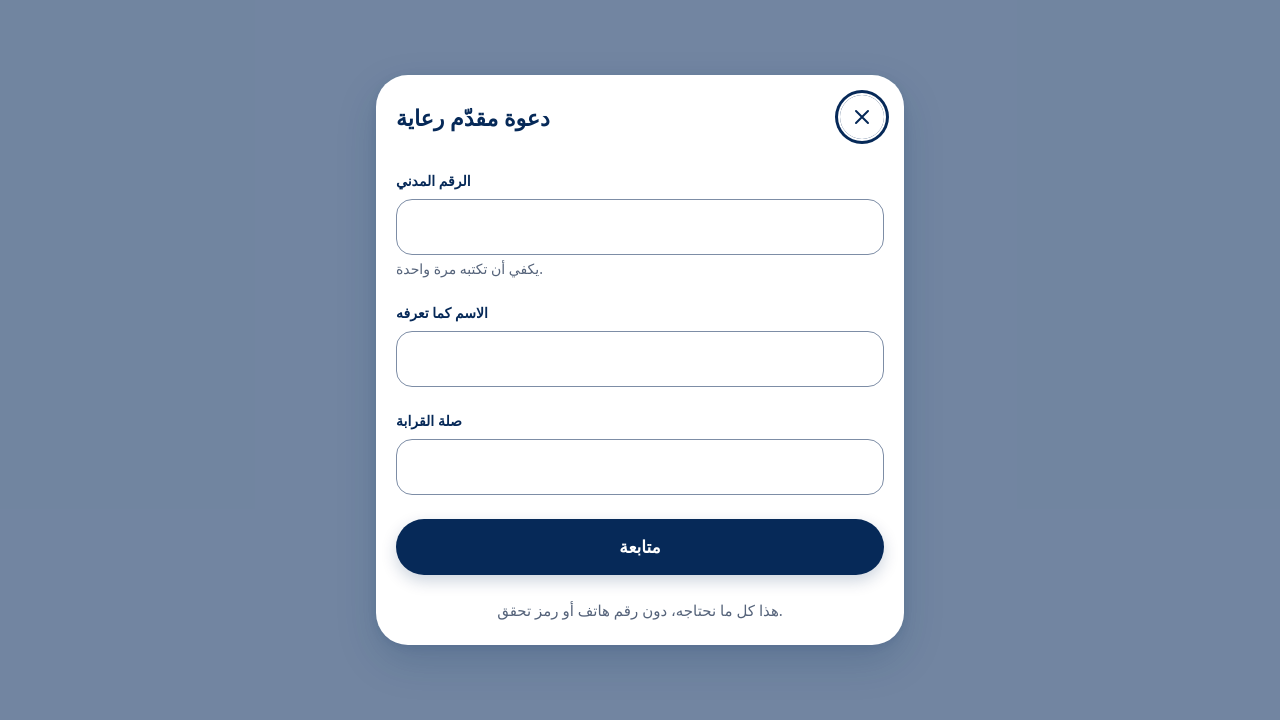
Test: F1 invite form — a real form with a message per empty field › Arabic-Indic digits are read as the Civil ID they are (the has-account path reaches the masked name)
Type "٢٨٥٠٦١٤٠٠٤١٢" into the field labelled "الرقم المدني" at (640, 227), box [396, 199, 884, 255]
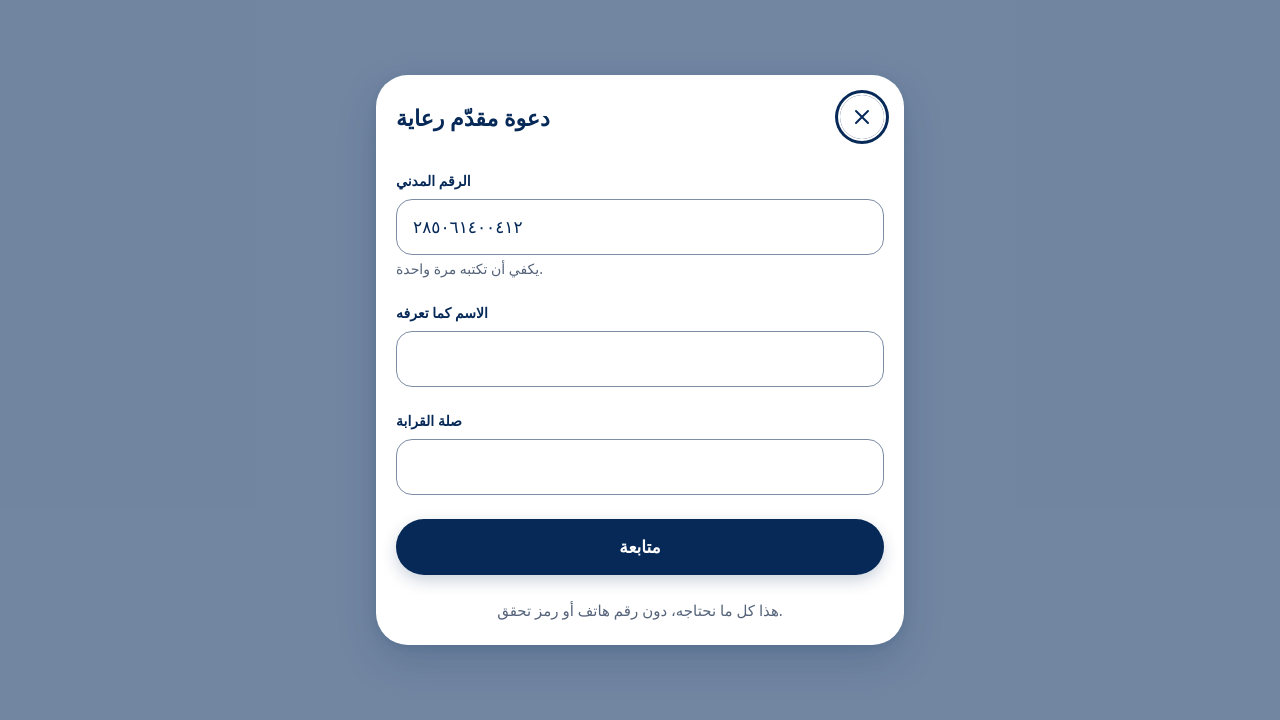
Type "عبدالله" into the field labelled "الاسم كما تعرفه" at (640, 359), box [396, 331, 884, 387]
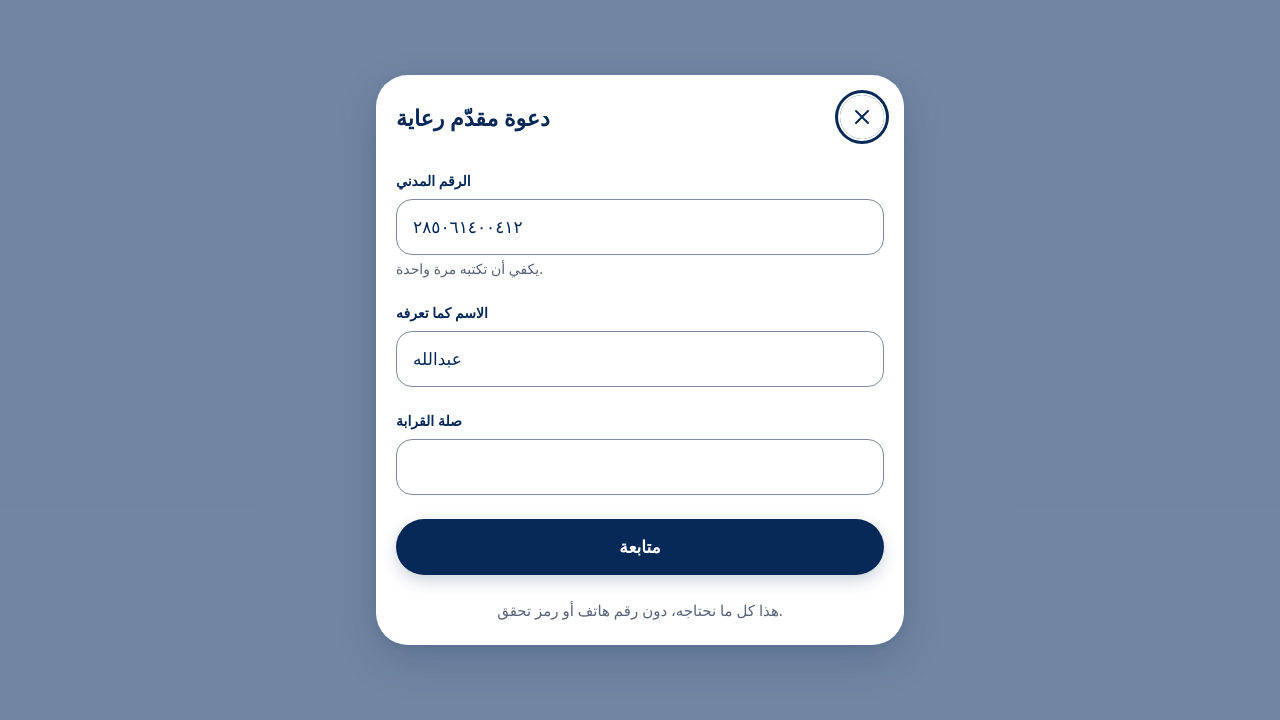
Type "ابني" into the field labelled "صلة القرابة" at (640, 467), box [396, 439, 884, 495]
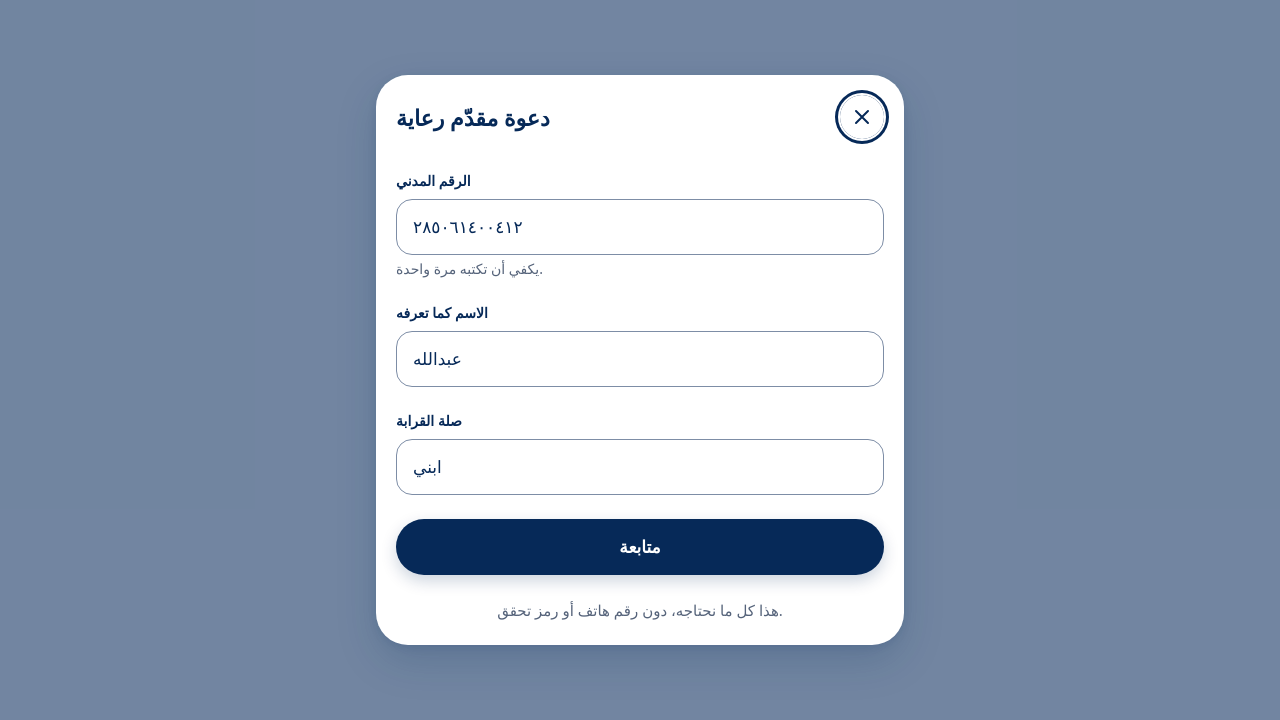
Click the button "متابعة" at (640, 547), box [396, 519, 884, 575]
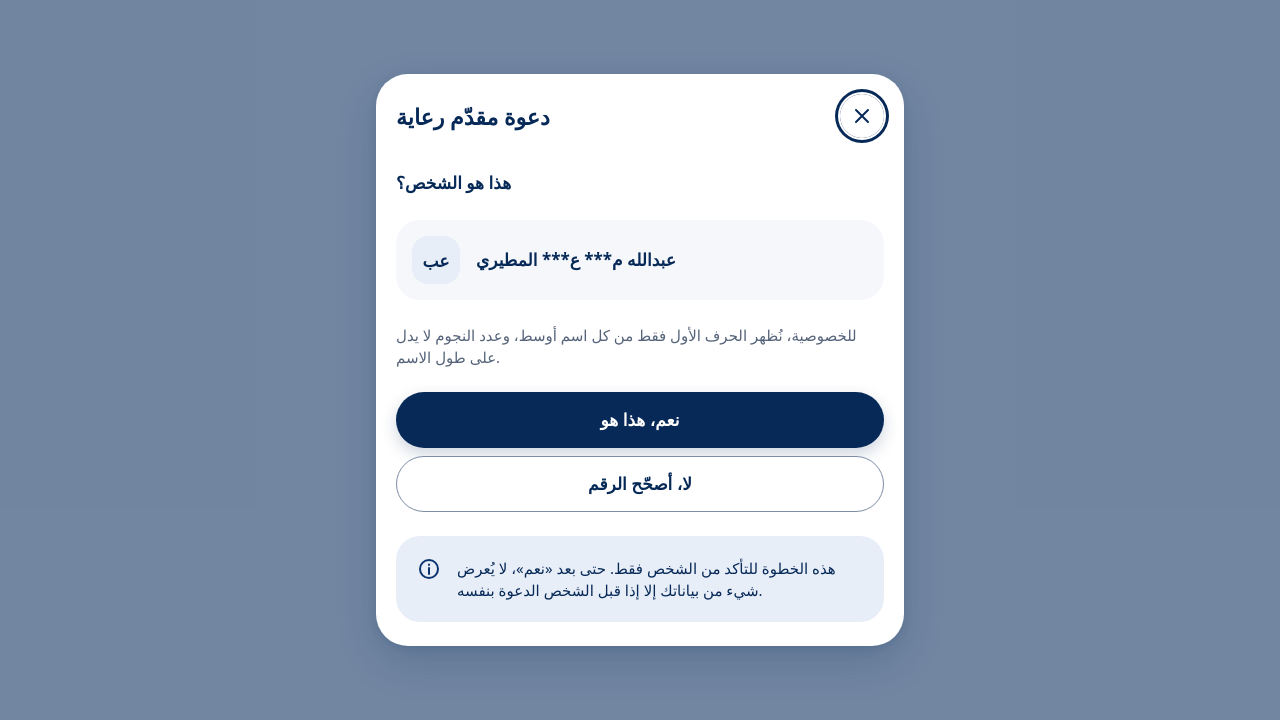
Check: the text "هذا هو الشخص؟" is shown, box [396, 171, 511, 194]
